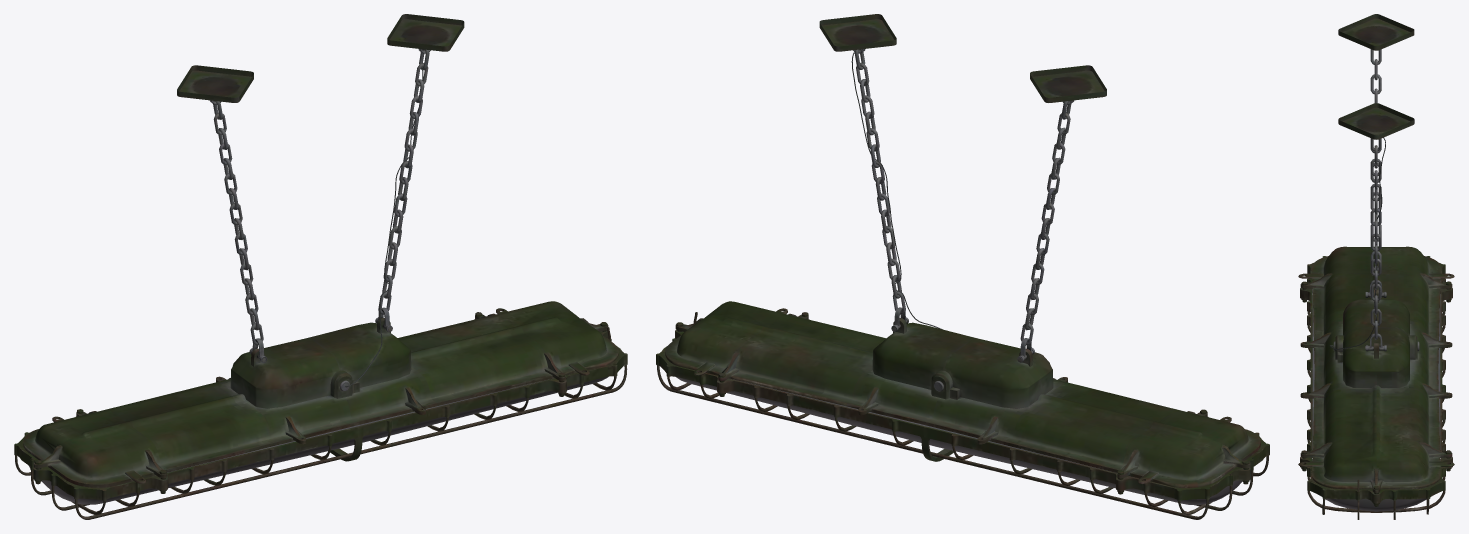
File: caged_hanging_light.glb
3 renders of one model, left to right at view 1: azimuth 30°, elevation 25°; view 2: azimuth 150°, elevation 25°; view 3: azimuth 270°, elevation 25°, orthographic. The views are drawn at different scales.
Parts seen in each view (by area): view 1: caged_hanging_light; view 2: caged_hanging_light; view 3: caged_hanging_light.
Part boxes in pixels (left/top/right/bottom): caged_hanging_light: left=14, top=14, right=627, bottom=519; caged_hanging_light: left=656, top=14, right=1269, bottom=519; caged_hanging_light: left=1298, top=14, right=1454, bottom=519.
Bounding box in the file's own units: 1.16 × 0.7501 × 0.3149.
Materials: 1 (1 with a texture image).
